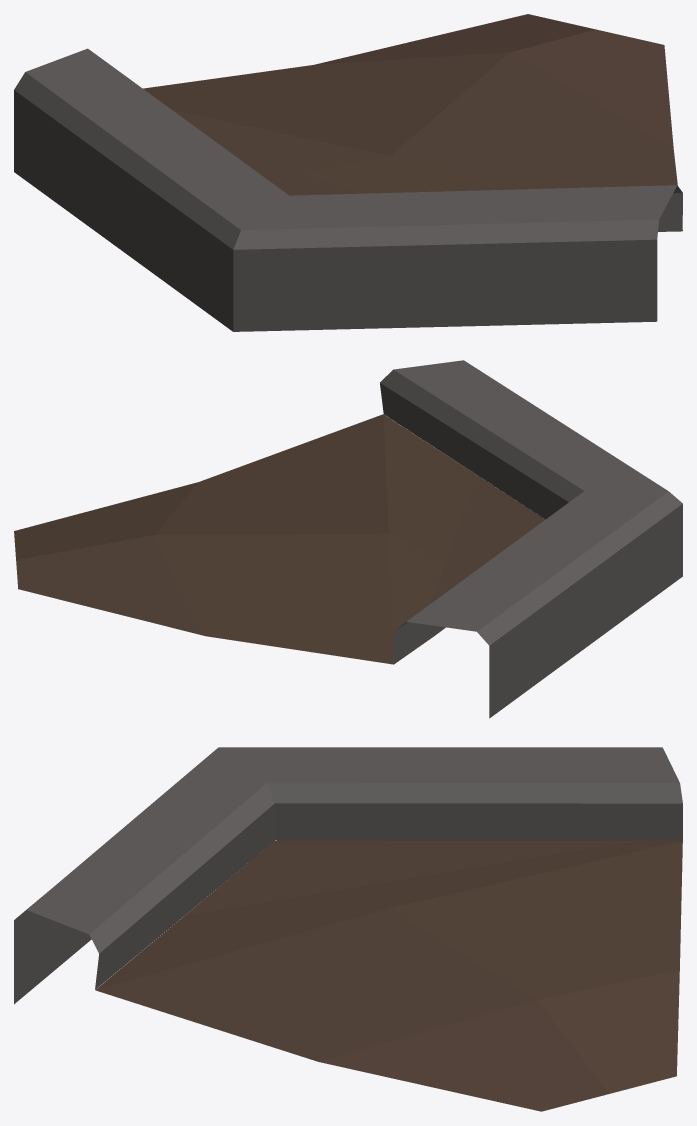
File: Garden Ground Turn 2.fbx
3 renders of one model, top to bottom at view 1: azimuth 30°, elevation 25°; view 2: azimuth 150°, elevation 25°; view 3: azimuth 270°, elevation 25°, orthographic. The views are drawn at different scales.
Parts seen in each view (by area): view 1: Garden Ground Turn 2.001; view 2: Garden Ground Turn 2.001; view 3: Garden Ground Turn 2.001.
Boxes of the visible parts, x1=… form: Garden Ground Turn 2.001: x1=14, y1=14, x2=682, y2=331; Garden Ground Turn 2.001: x1=14, y1=360, x2=682, y2=718; Garden Ground Turn 2.001: x1=14, y1=747, x2=682, y2=1111.
Size of the model in its own units: 150 by 142 by 23.12.
